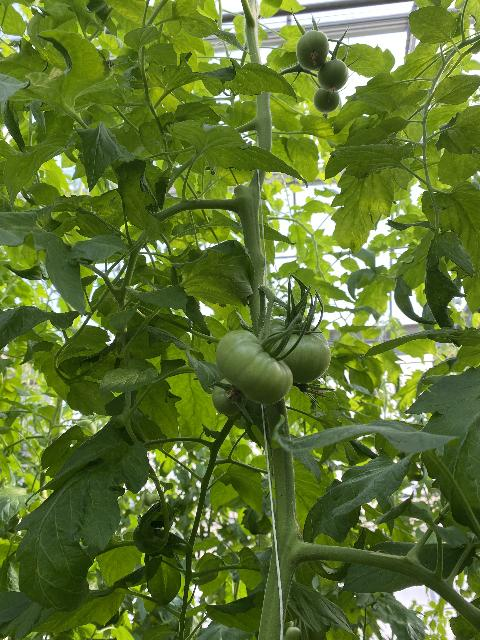b_green: (216, 330, 294, 404), (258, 316, 331, 384), (296, 30, 330, 71), (212, 378, 247, 416), (317, 59, 349, 92), (314, 88, 341, 114)
